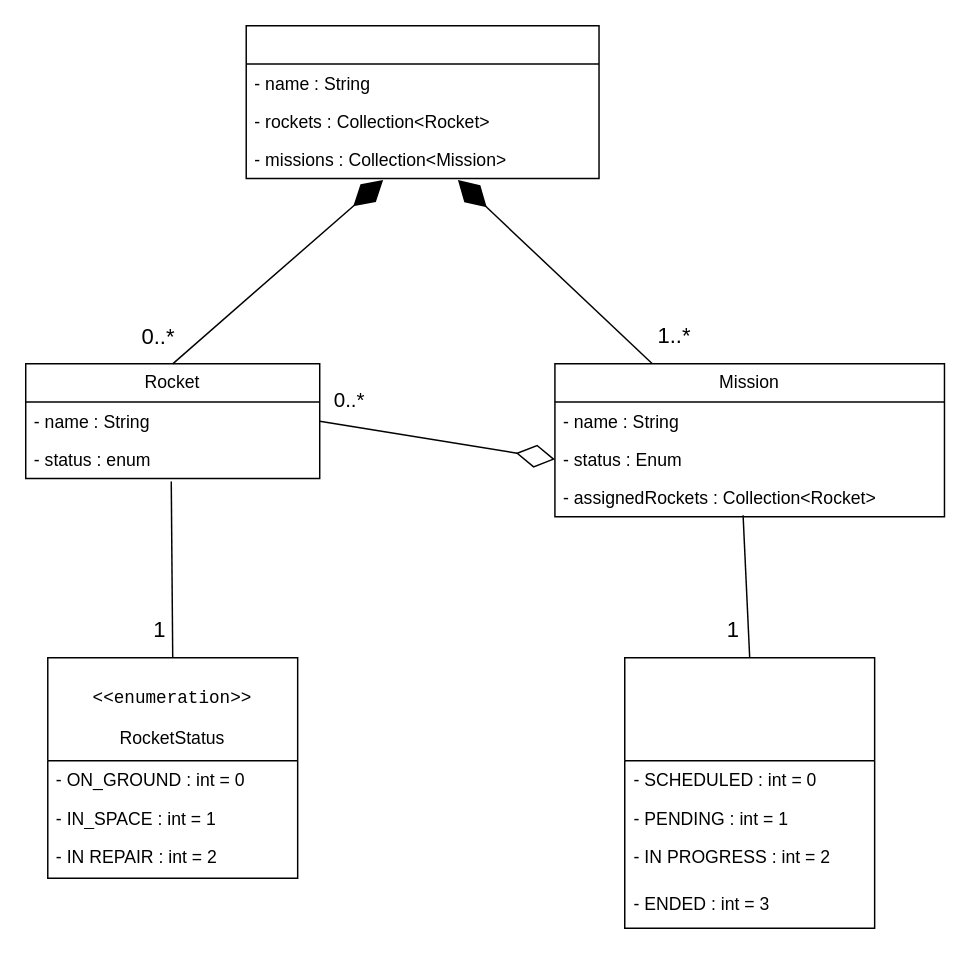
Image size: 970x958. Some labels were removed from this diagram. Here are the shapes that lost their labels. From the top down, the box of each, then its label:
(245, 24, 599, 179): RocketRepository
(623, 656, 875, 928): <<enumeration>> MissionStatus
